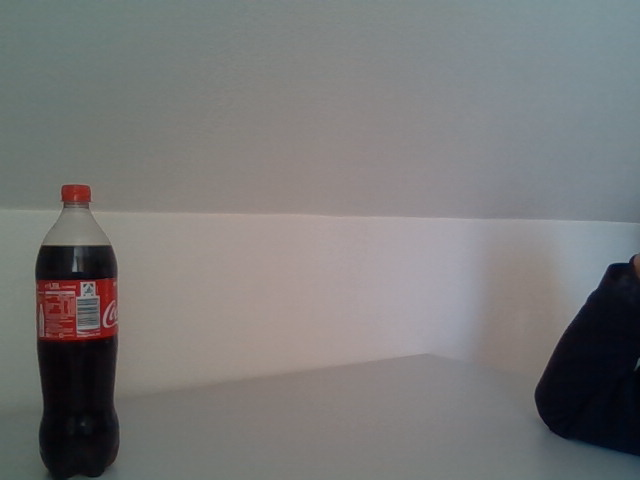bottle: (34, 183, 120, 480)
